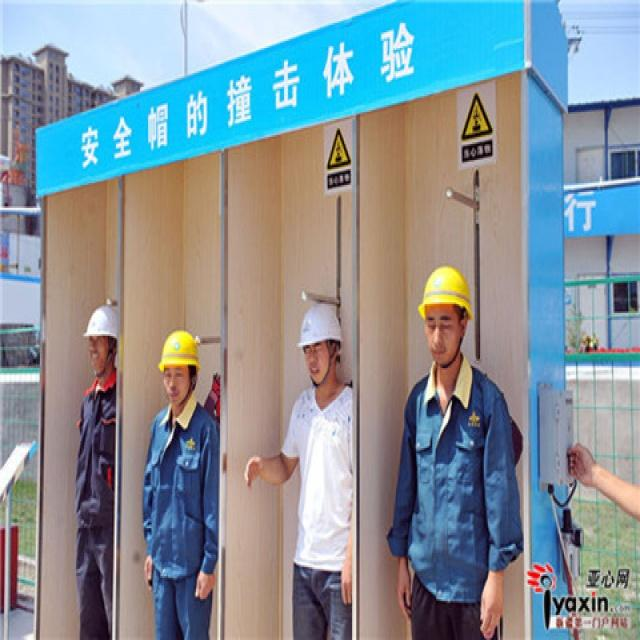helmet: (418, 353, 473, 487), (295, 404, 346, 517), (156, 441, 204, 543), (81, 404, 121, 501)
